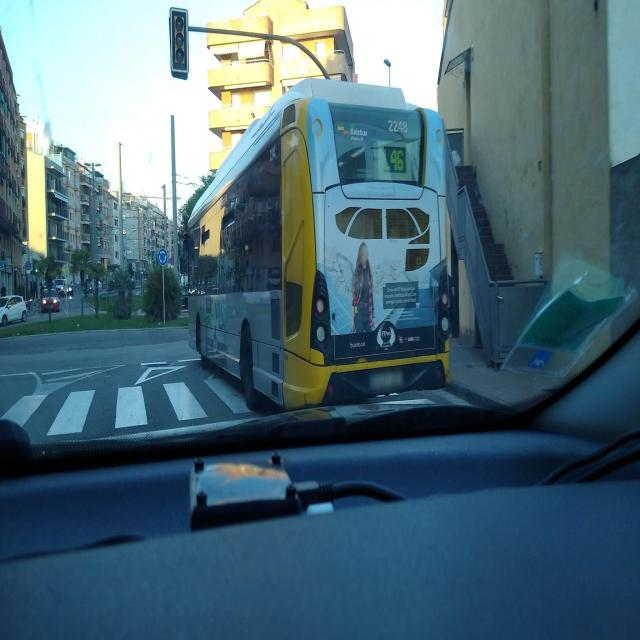forb_stopping: (25, 261, 31, 271), (169, 257, 174, 265)
